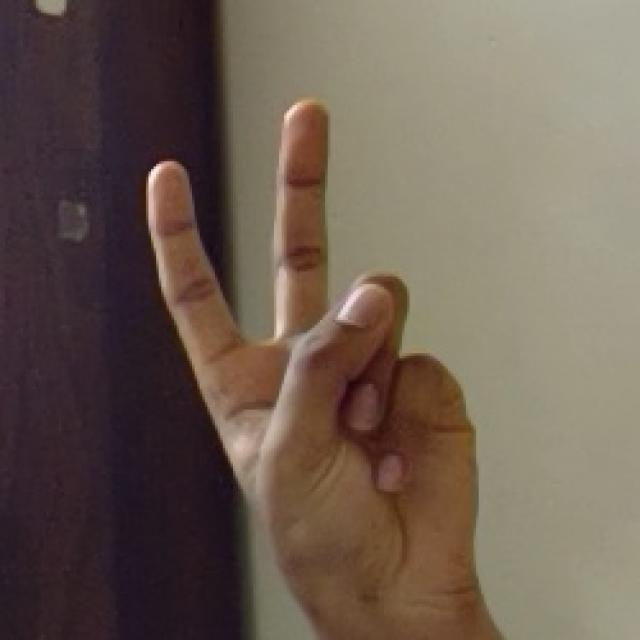Numeric-2: (144, 88, 481, 606)
